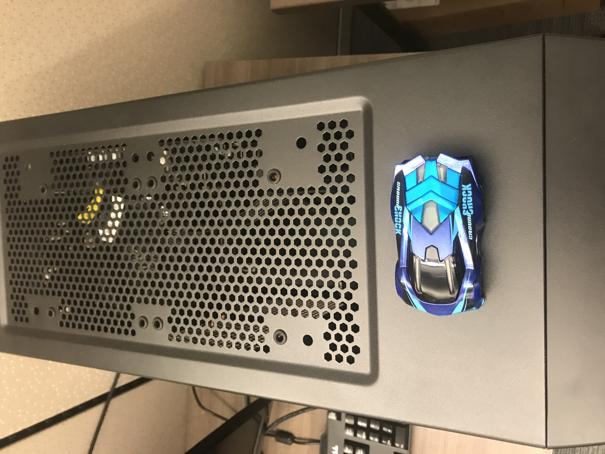Shock: (389, 152, 490, 317)
